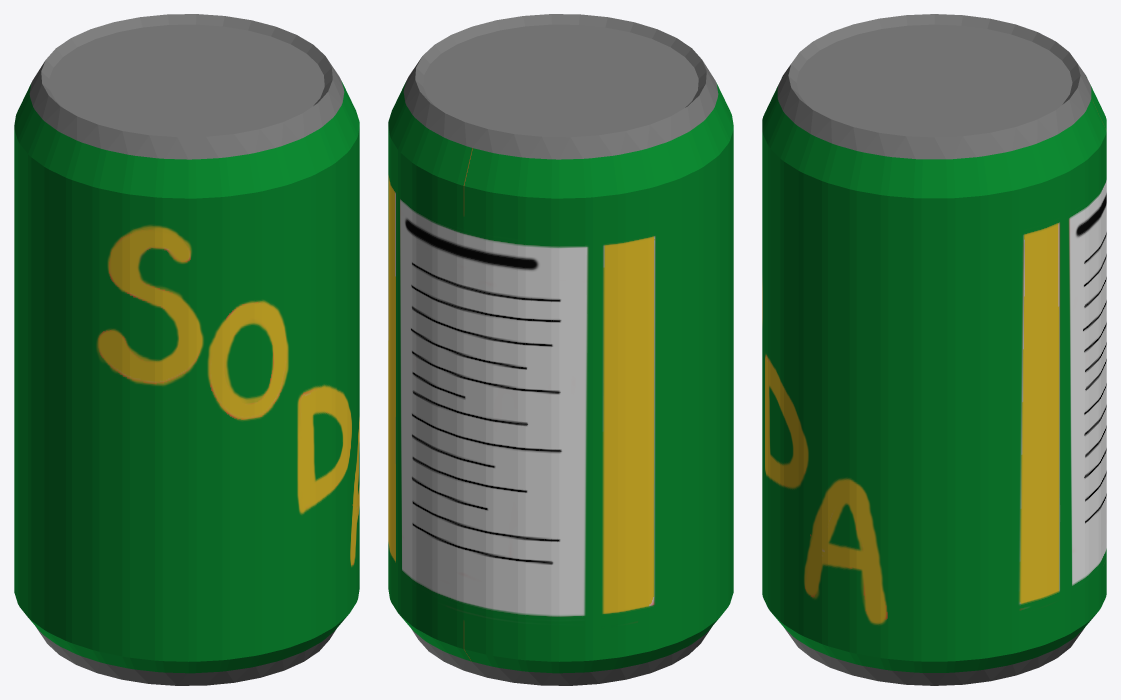
The model's file is GreenCan.fbx.
3 renders of one model, left to right at view 1: azimuth 30°, elevation 25°; view 2: azimuth 150°, elevation 25°; view 3: azimuth 270°, elevation 25°, orthographic.
Parts seen in each view (by area): view 1: Cylinder; view 2: Cylinder; view 3: Cylinder.
Boxes of the visible parts, box(x1,y1,x2,y2) form: Cylinder: box(14, 14, 359, 685); Cylinder: box(388, 14, 733, 685); Cylinder: box(762, 14, 1106, 685).
Bounding box in the file's own units: 71.68 × 126 × 71.68.
Materials: 2 (1 with a texture image).
